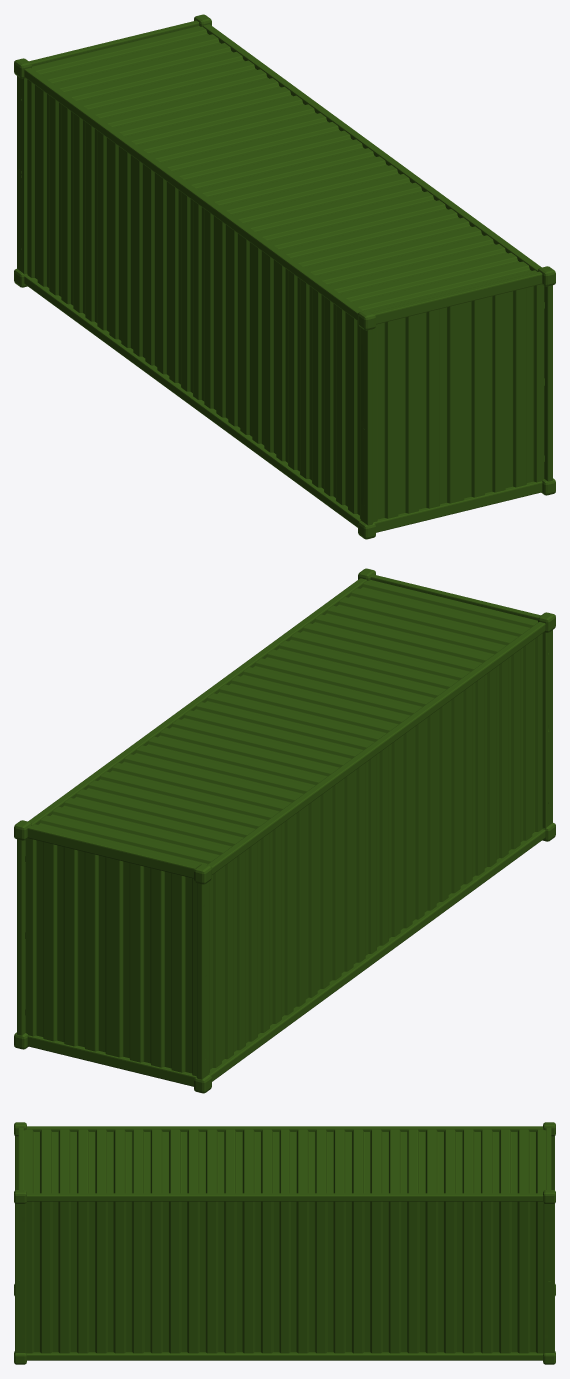
File: cargoGreen.glb
3 renders of one model, top to bottom at view 1: azimuth 30°, elevation 25°; view 2: azimuth 150°, elevation 25°; view 3: azimuth 270°, elevation 25°, orthographic. The views are drawn at different scales.
Visible parts, largest first — view 1: 030.002; view 2: 030.002; view 3: 030.002.
Part boxes in pixels (x1,y1,x2,y2): 030.002: (14, 14, 555, 539); 030.002: (14, 568, 555, 1093); 030.002: (14, 1122, 555, 1364).
Bounding box in the file's own units: 2.26 × 2.51 × 7.18.
Materials: 1 (1 with a texture image).
